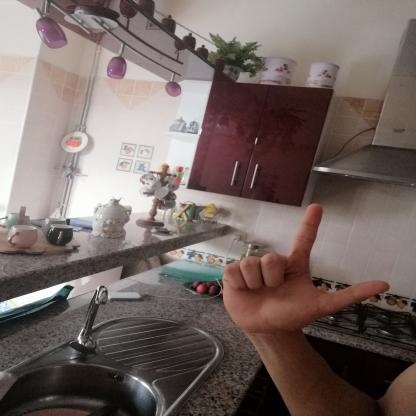LAAM: (209, 192, 398, 345)
